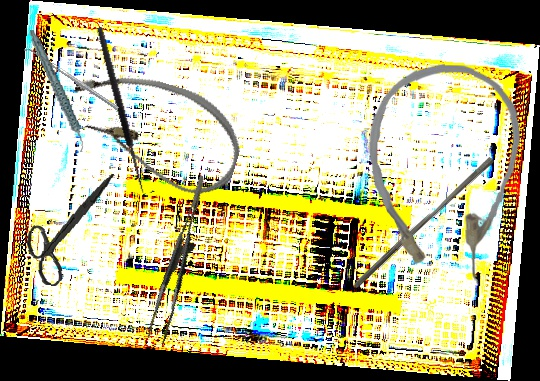Cannula: (363, 61, 524, 283), (55, 58, 253, 204)
Handpiece: (27, 24, 86, 158)
Hook Surgical: (95, 24, 156, 196)
Iris Scissors: (22, 166, 115, 291)
Pusher: (351, 150, 497, 296)
Spatula Surgical: (22, 45, 120, 114)
Tissue Forceps: (130, 175, 233, 345)
